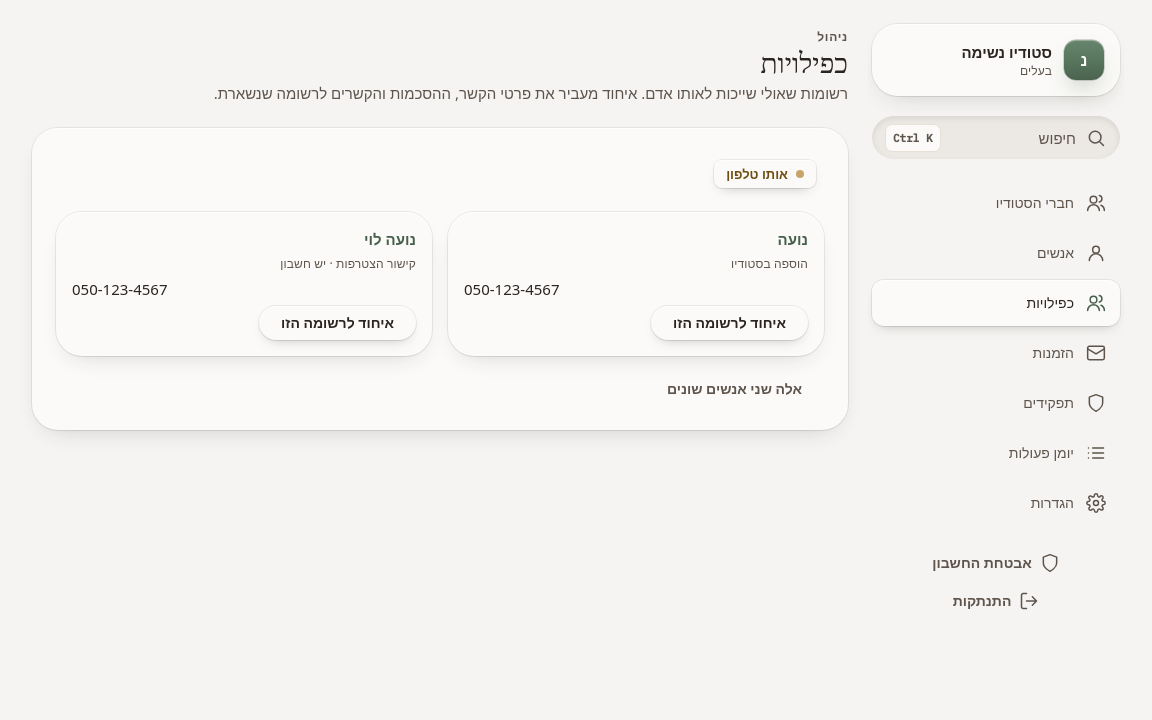
duplicates › merges into the record that signs in
The width and height of the screenshot is (1152, 720).
expect the element named "נועה ונועה לוי" shows "אותו טלפון": met, box x1=726 y1=165 x2=788 y2=183
expect the element named "נועה ונועה לוי" shows "050-123-4567": met, box x1=464 y1=279 x2=560 y2=299
Click the button "איחוד לרשומה הזו" below "קישור הצטרפות".
click(338, 323)  # box x1=259 y1=306 x2=416 y2=340
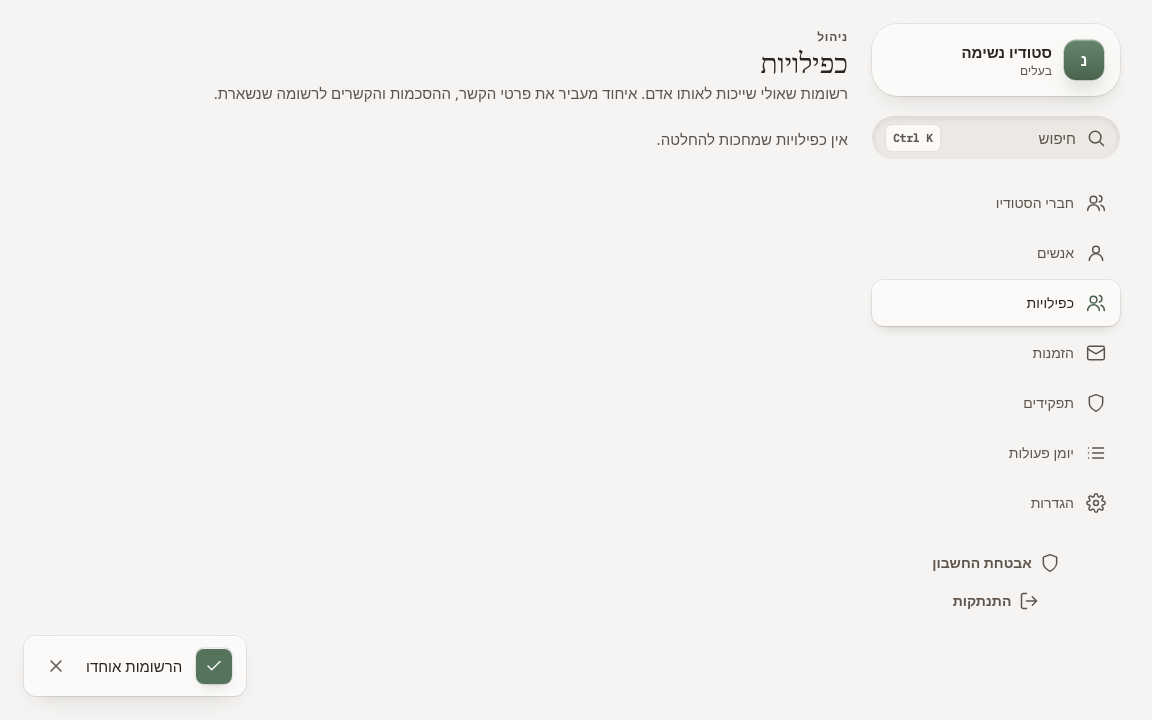
expect the text "הרשומות אוחדו" is shown: met, box x1=86 y1=655 x2=182 y2=677
expect the text "אין כפילויות שמחכות להחלטה." is shown: met, box x1=657 y1=129 x2=848 y2=149
